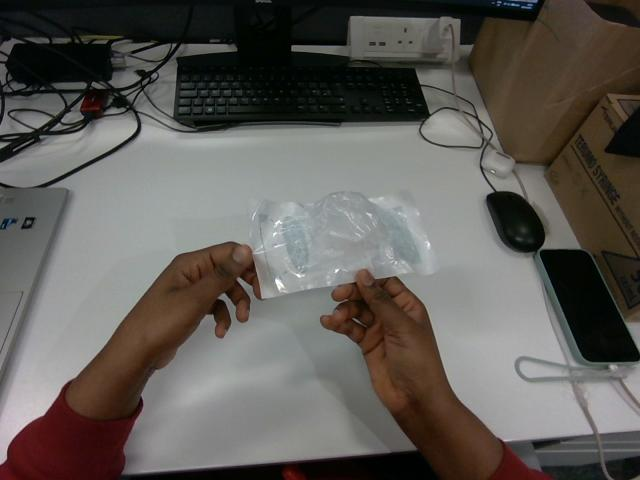gallipot: (250, 191, 436, 297)
